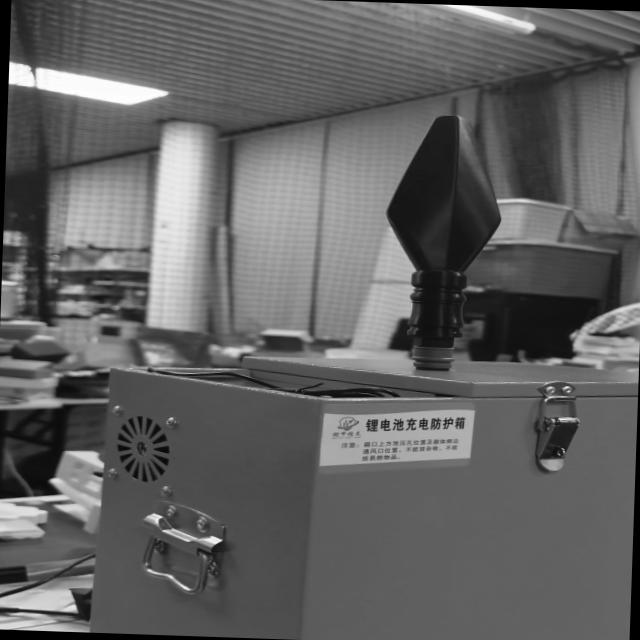base: (408, 342, 456, 372)
